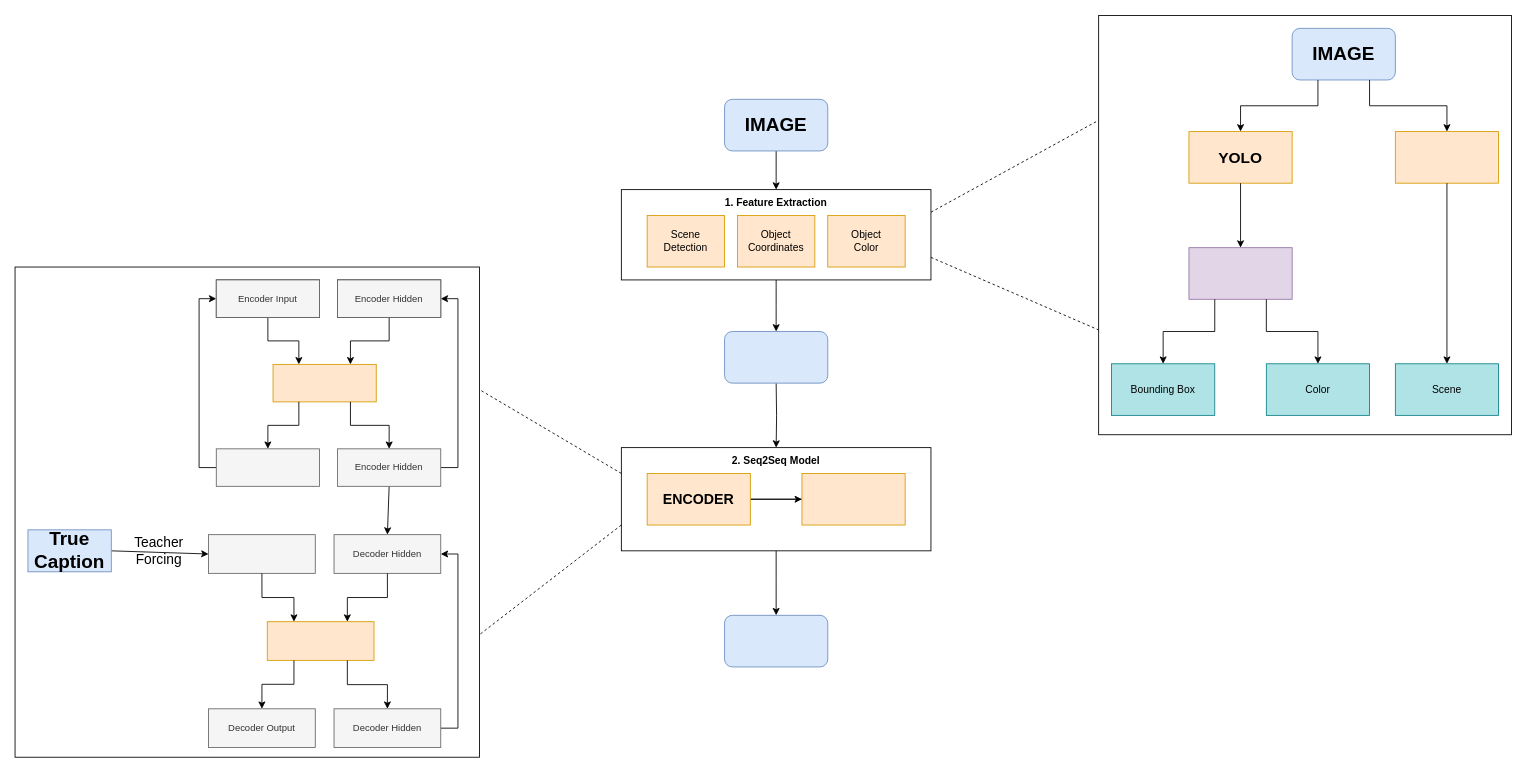
The diagram is 1527 pixels wide and 772 high, and some of its shapes have lost their labels. The centre of each missing label's shape, as x and y in pixels:
CAPTION: the point at 776,640
DECODER: the point at 853,499
DECODER GRU: the point at 320,640
Decoder Input: the point at 261,553
ENCODER GRU: the point at 324,383
Encoder Output: the point at 267,467
Object: the point at 1240,273
Resnet-Places365: the point at 1446,157
TEXT INPUT: the point at 776,357
